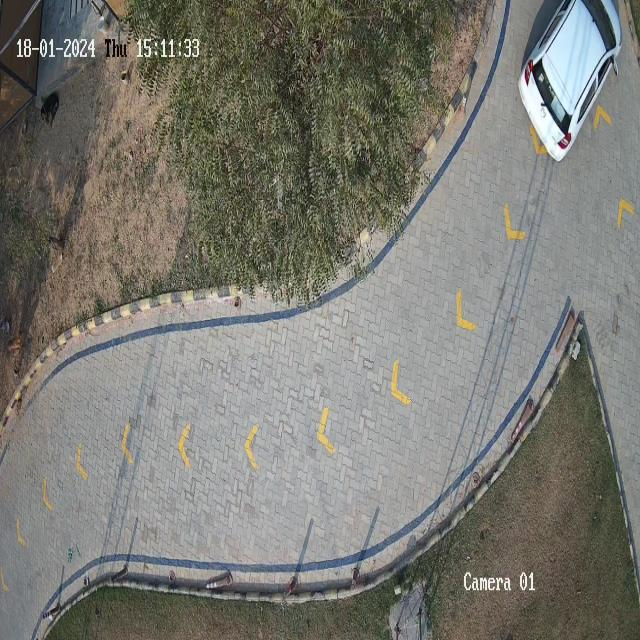car: (518, 0, 620, 164)
